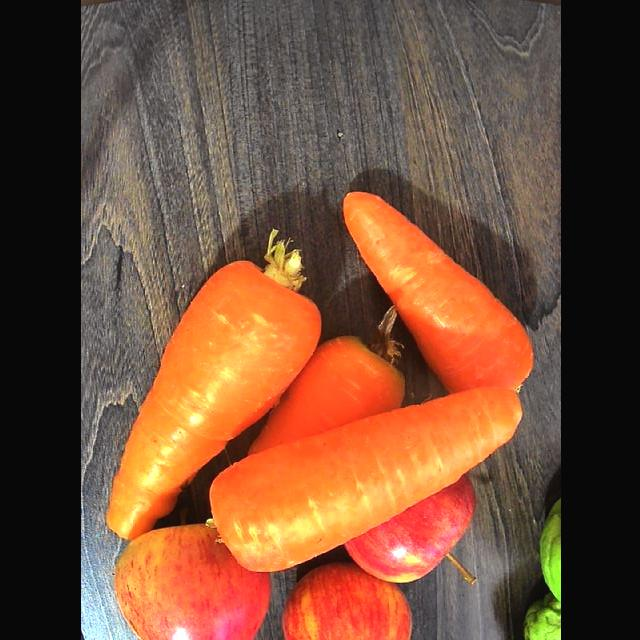chayote: (539, 497, 560, 600), (524, 593, 560, 639)
manzana: (115, 524, 269, 639), (345, 476, 475, 583), (282, 563, 411, 639)
zanahoria: (107, 230, 320, 539), (210, 387, 521, 571), (342, 192, 532, 391), (248, 307, 404, 454)
